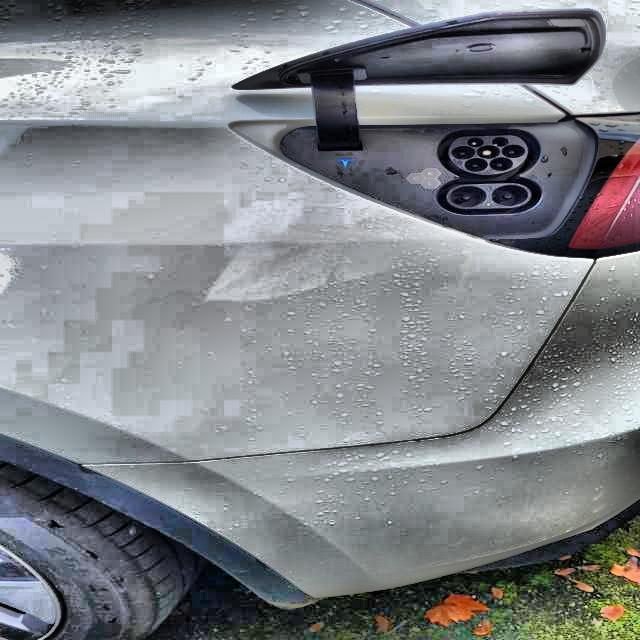inlet: (449, 135, 528, 175)
inlet-above-left: (468, 138, 483, 147)
inlet-above-right: (492, 137, 508, 146)
inlet-below-left: (464, 158, 488, 172)
inlet-below-right: (489, 157, 513, 171)
inlet-center: (476, 145, 500, 159)
inlet-center-left: (452, 146, 475, 159)
inlet-center-right: (502, 145, 525, 158)
